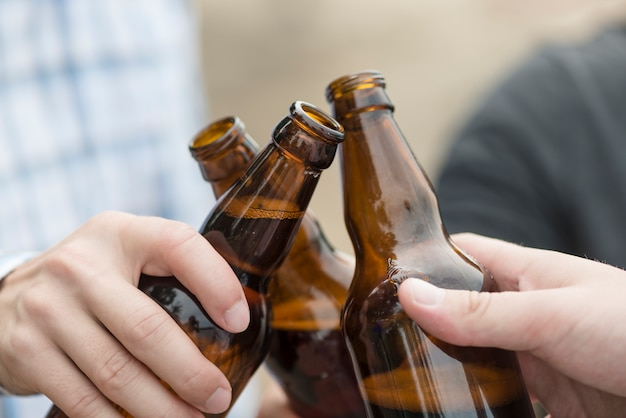alcohol: (45, 99, 345, 418), (325, 68, 539, 418), (189, 115, 370, 418)
